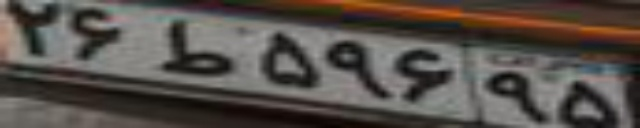2: (5, 0, 58, 57)
5: (254, 29, 319, 87), (550, 77, 618, 127)
6: (391, 48, 451, 105), (65, 7, 124, 59)
9: (323, 39, 385, 98), (483, 69, 547, 123)
taa: (155, 18, 231, 75)
